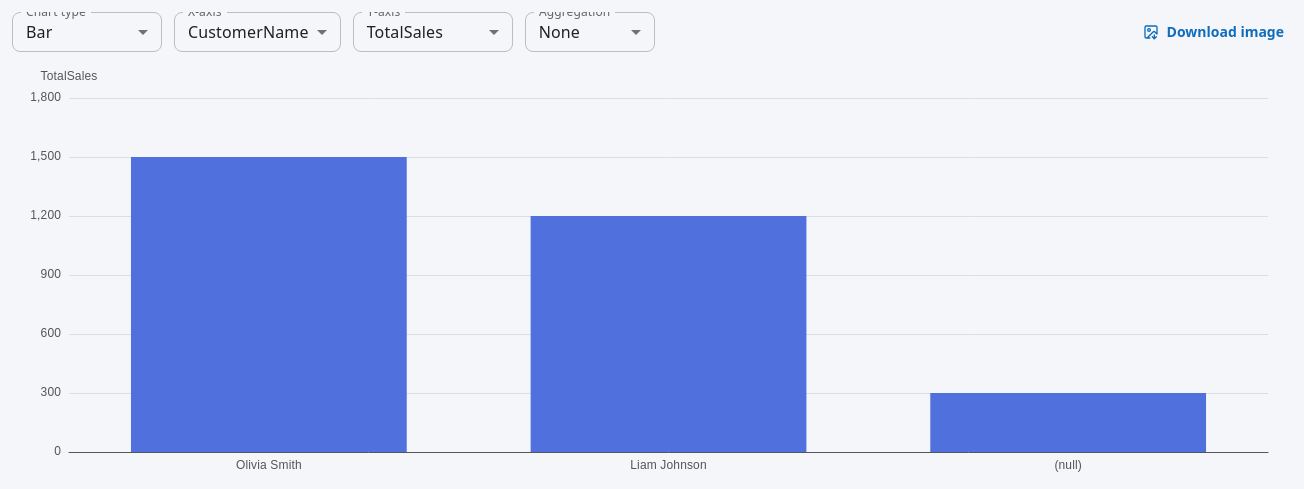
Test: ResultChart › warns when the y-axis is not numeric
Click the dropdown named "y-axis": point(405, 32) [367,20,443,42]
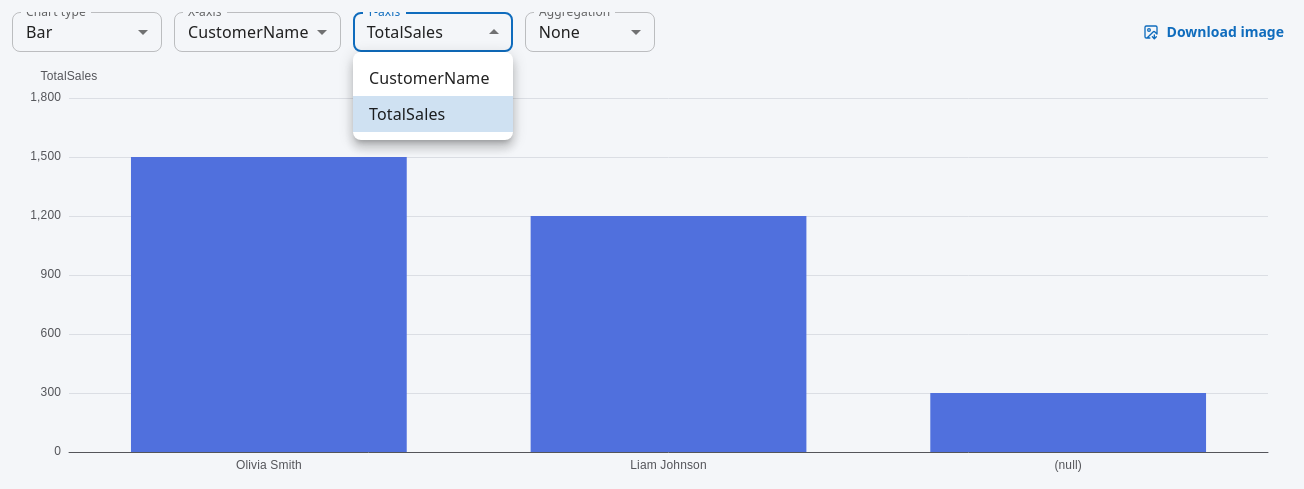
Click the option "CustomerName": point(429, 78) [369,67,490,89]
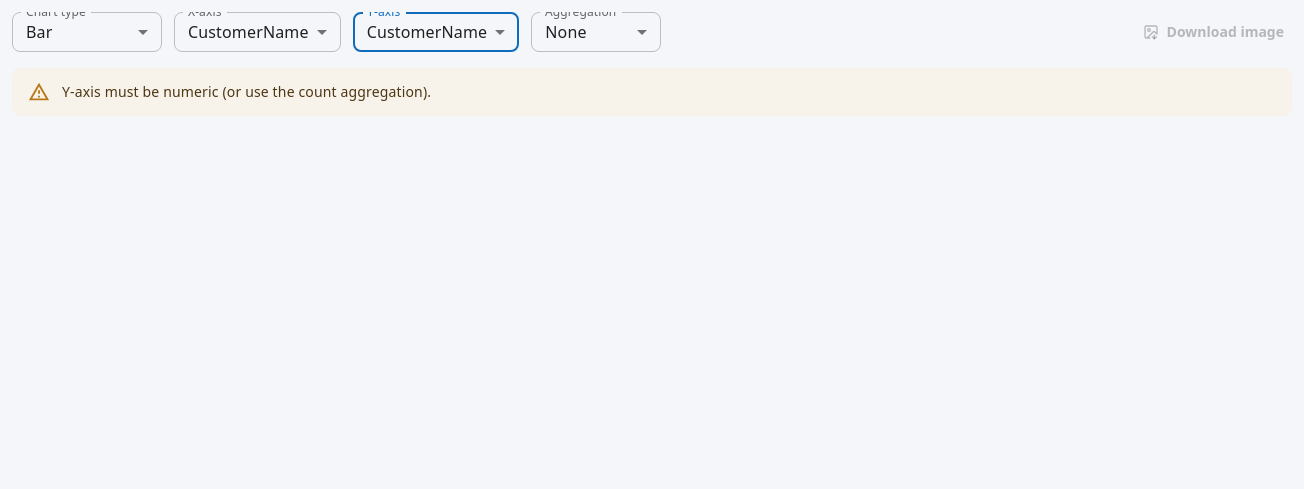
Check: the text "Y-axis must be numeric (or use the count aggregation)." is shown, box [62,82,431,101]
Check: the picture is gone
